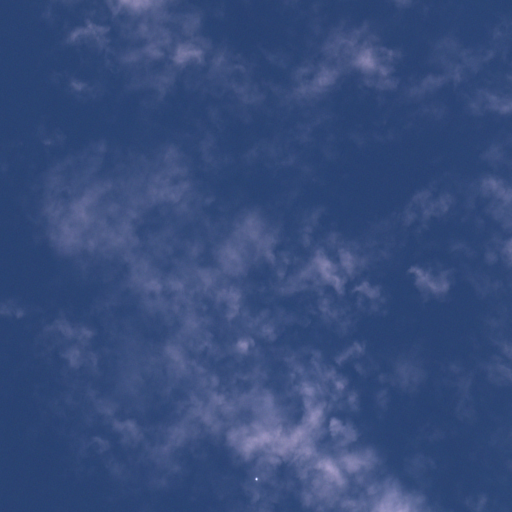Iceberg: (255, 477, 257, 480)
